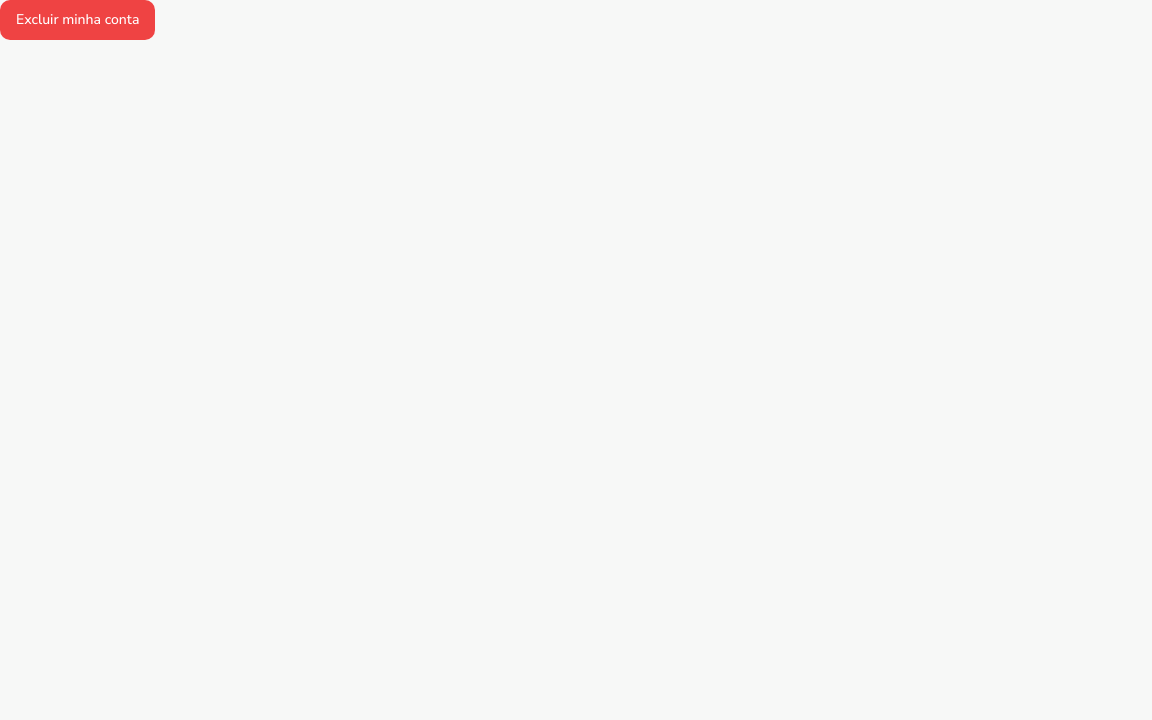
Test: DeleteAccountDialog › habilita após senha + frase exata
Click the button "Excluir minha conta" at (78, 20), box [0,0,155,40]
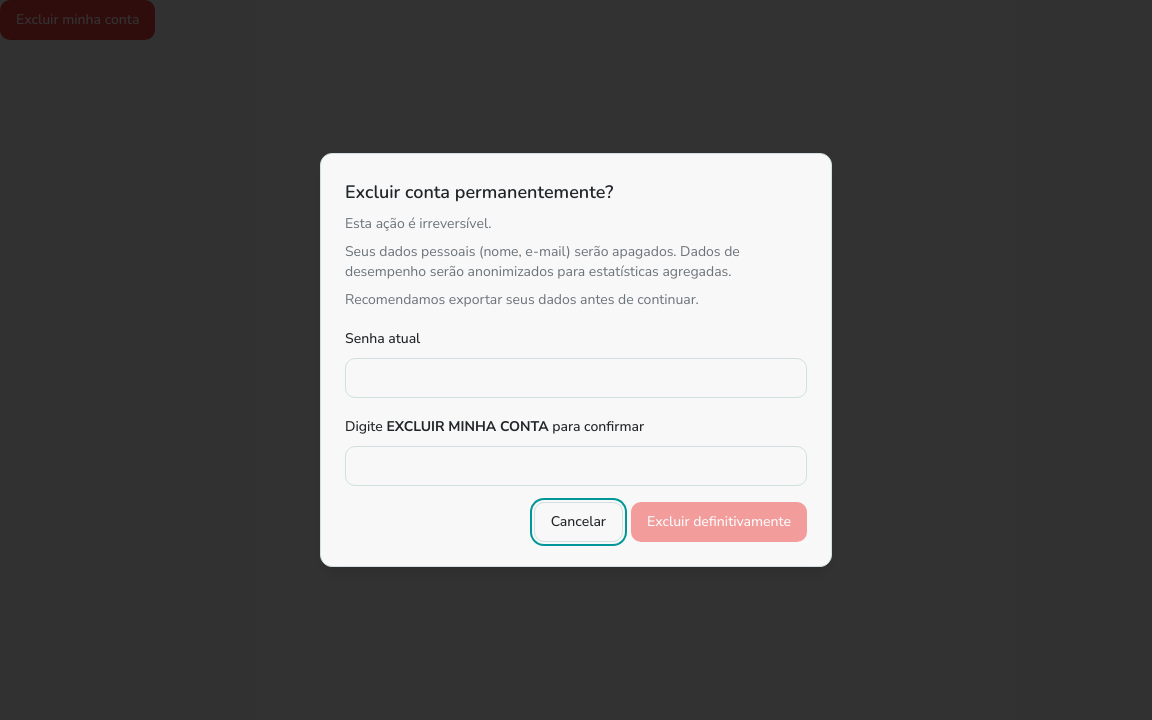
Check: the password field labelled "Senha atual" is shown
Type "abc" into the password field labelled "Senha atual" at (576, 378), box [345,358,807,398]
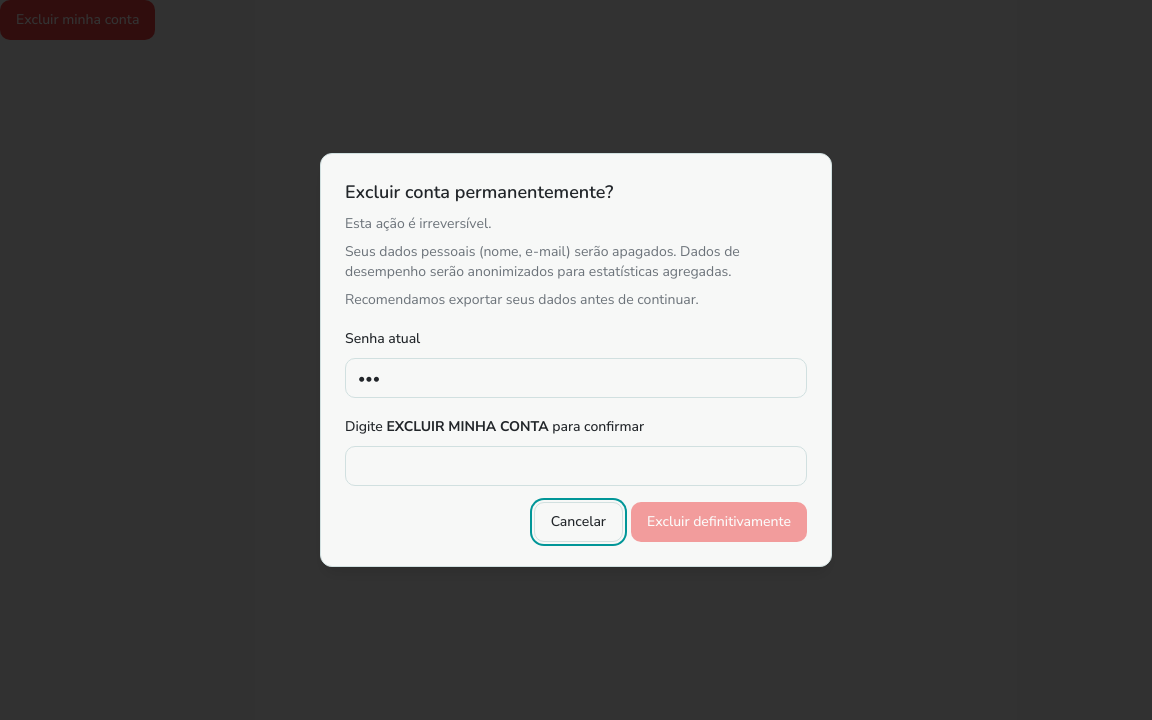
Type "EXCLUIR MINHA CONTA" into the field labelled "Digite EXCLUIR MINHA CONTA para confirmar" at (576, 466), box [345,446,807,486]
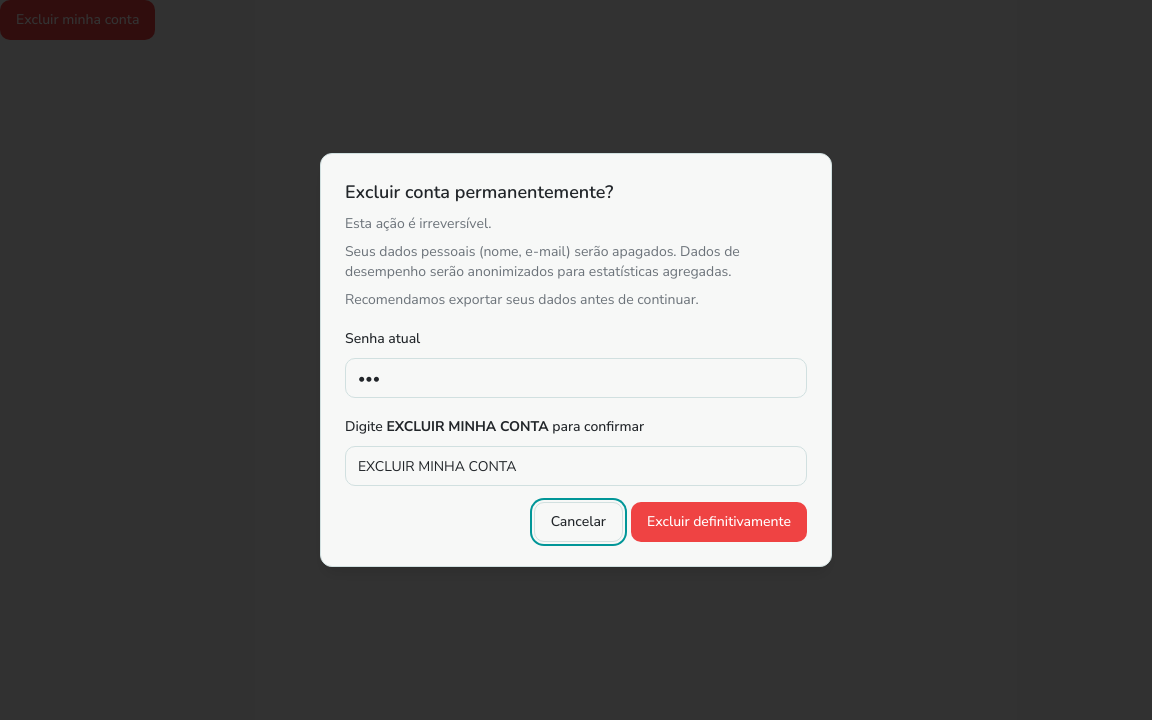
Check: the button "Excluir definitivamente" is enabled, box [631,502,807,542]
